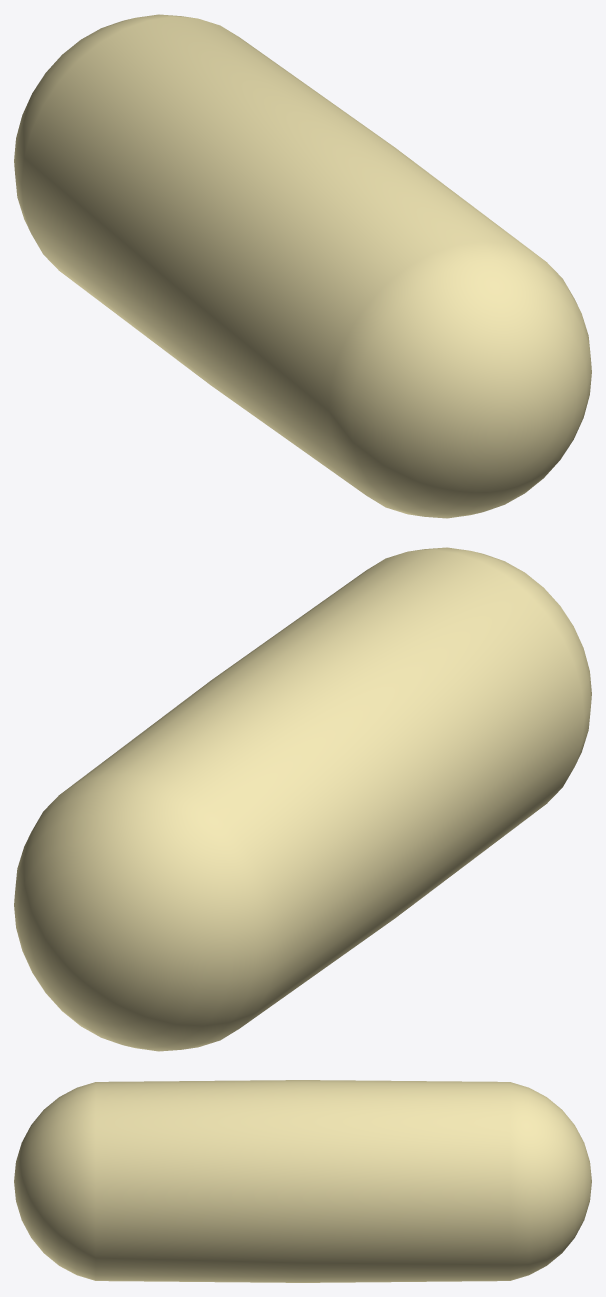
File: bullet.fbx
The picture shows the model from 3 angles, top to bottom: view 1: azimuth 30°, elevation 25°; view 2: azimuth 150°, elevation 25°; view 3: azimuth 270°, elevation 25°; orthographic projection. The views are drawn at different scales.
Visible parts, largest first — view 1: Sphere001; view 2: Sphere001; view 3: Sphere001.
Part boxes in pixels (bbox=[...]): Sphere001: bbox=[14, 14, 591, 518]; Sphere001: bbox=[14, 547, 591, 1051]; Sphere001: bbox=[14, 1080, 591, 1282].
Bounding box in the file's own units: 0.48 × 0.48 × 1.37.
Materials: 1 (1 with a texture image).
